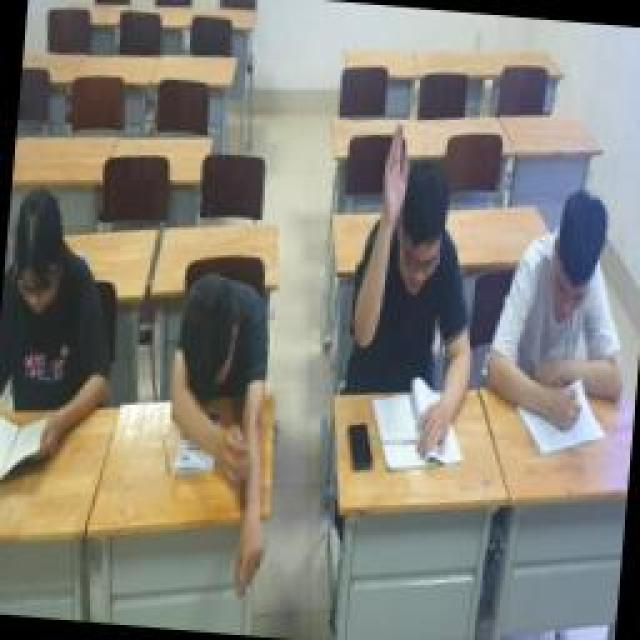sleep: (150, 275, 285, 595)
study: (340, 120, 488, 460), (483, 182, 635, 448), (0, 180, 118, 478)
